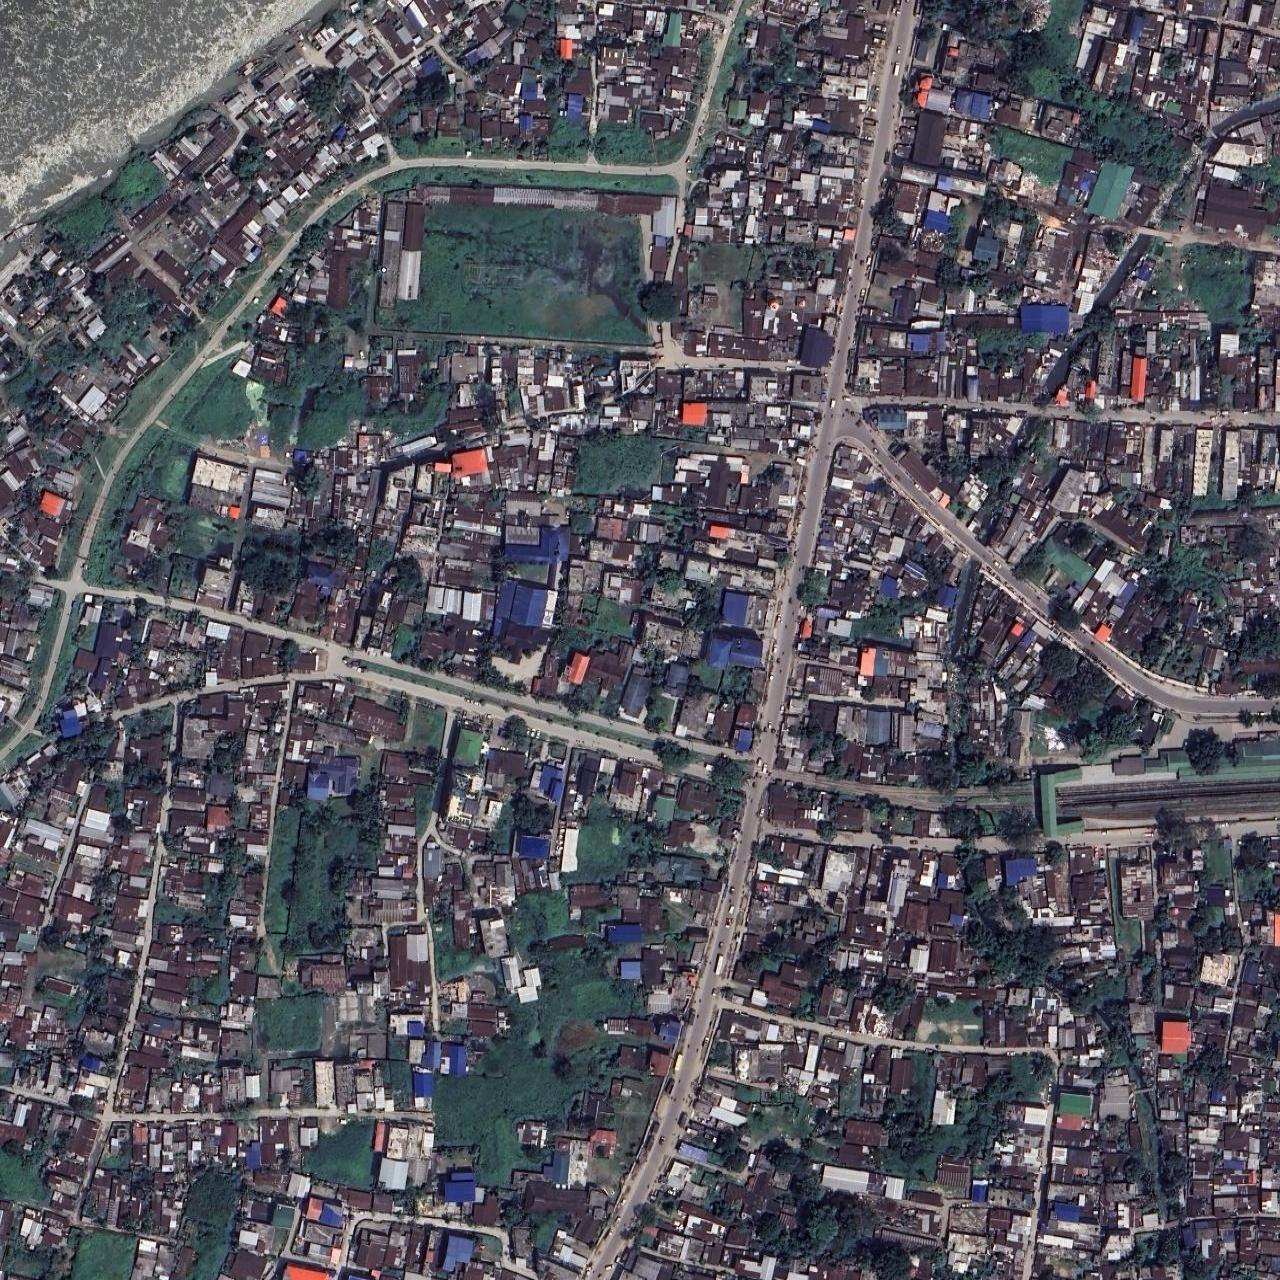greenery: (250, 185, 675, 375)
house: (5, 598, 733, 1280), (710, 815, 1280, 1280), (0, 0, 457, 567), (850, 0, 1280, 434), (805, 402, 1280, 788), (170, 459, 720, 731), (710, 0, 885, 462), (0, 790, 75, 1053)
water: (0, 0, 318, 233)
